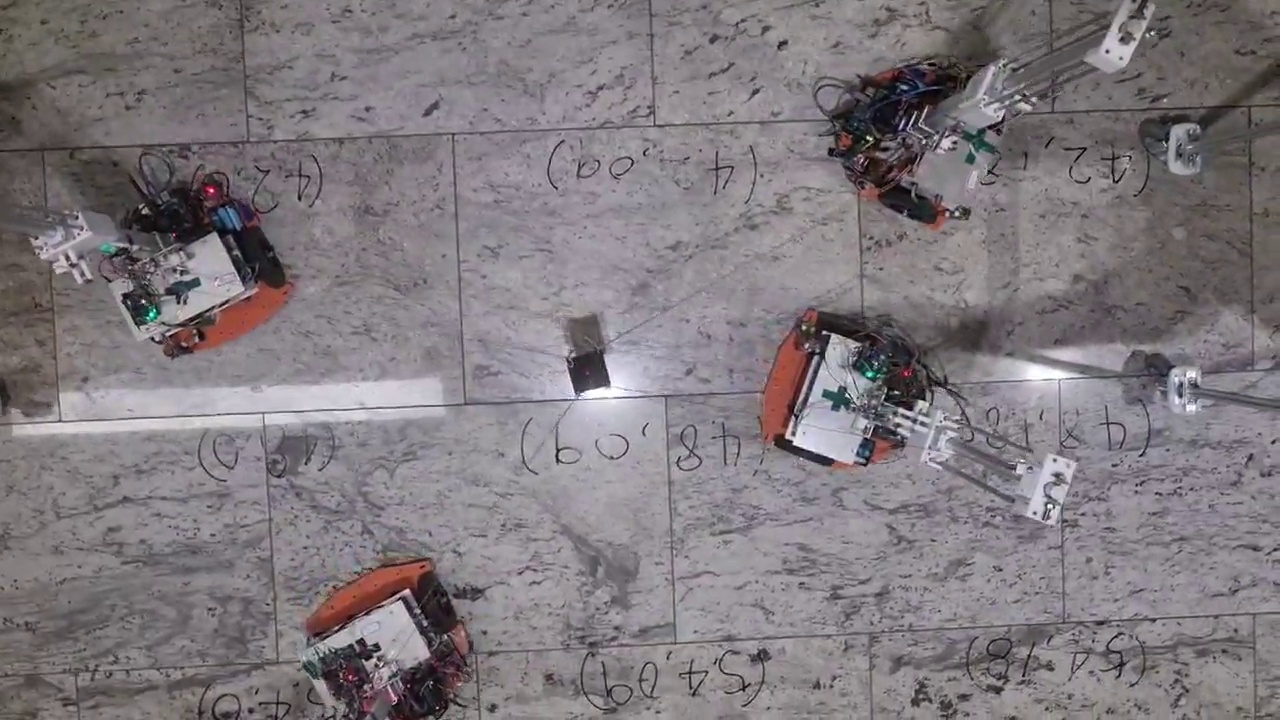e0: (567, 348, 611, 394)
r1: (773, 311, 883, 469)
r2: (877, 61, 976, 224)
r3: (119, 224, 285, 341)
r4: (306, 572, 458, 690)
y_+_axis_vector: (666, 380, 1059, 396)
y_-_axis_vector: (264, 396, 667, 414)
